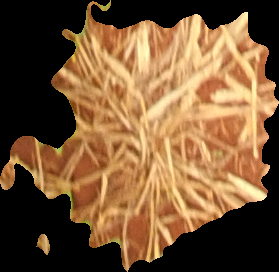soil: (1, 1, 279, 270)
